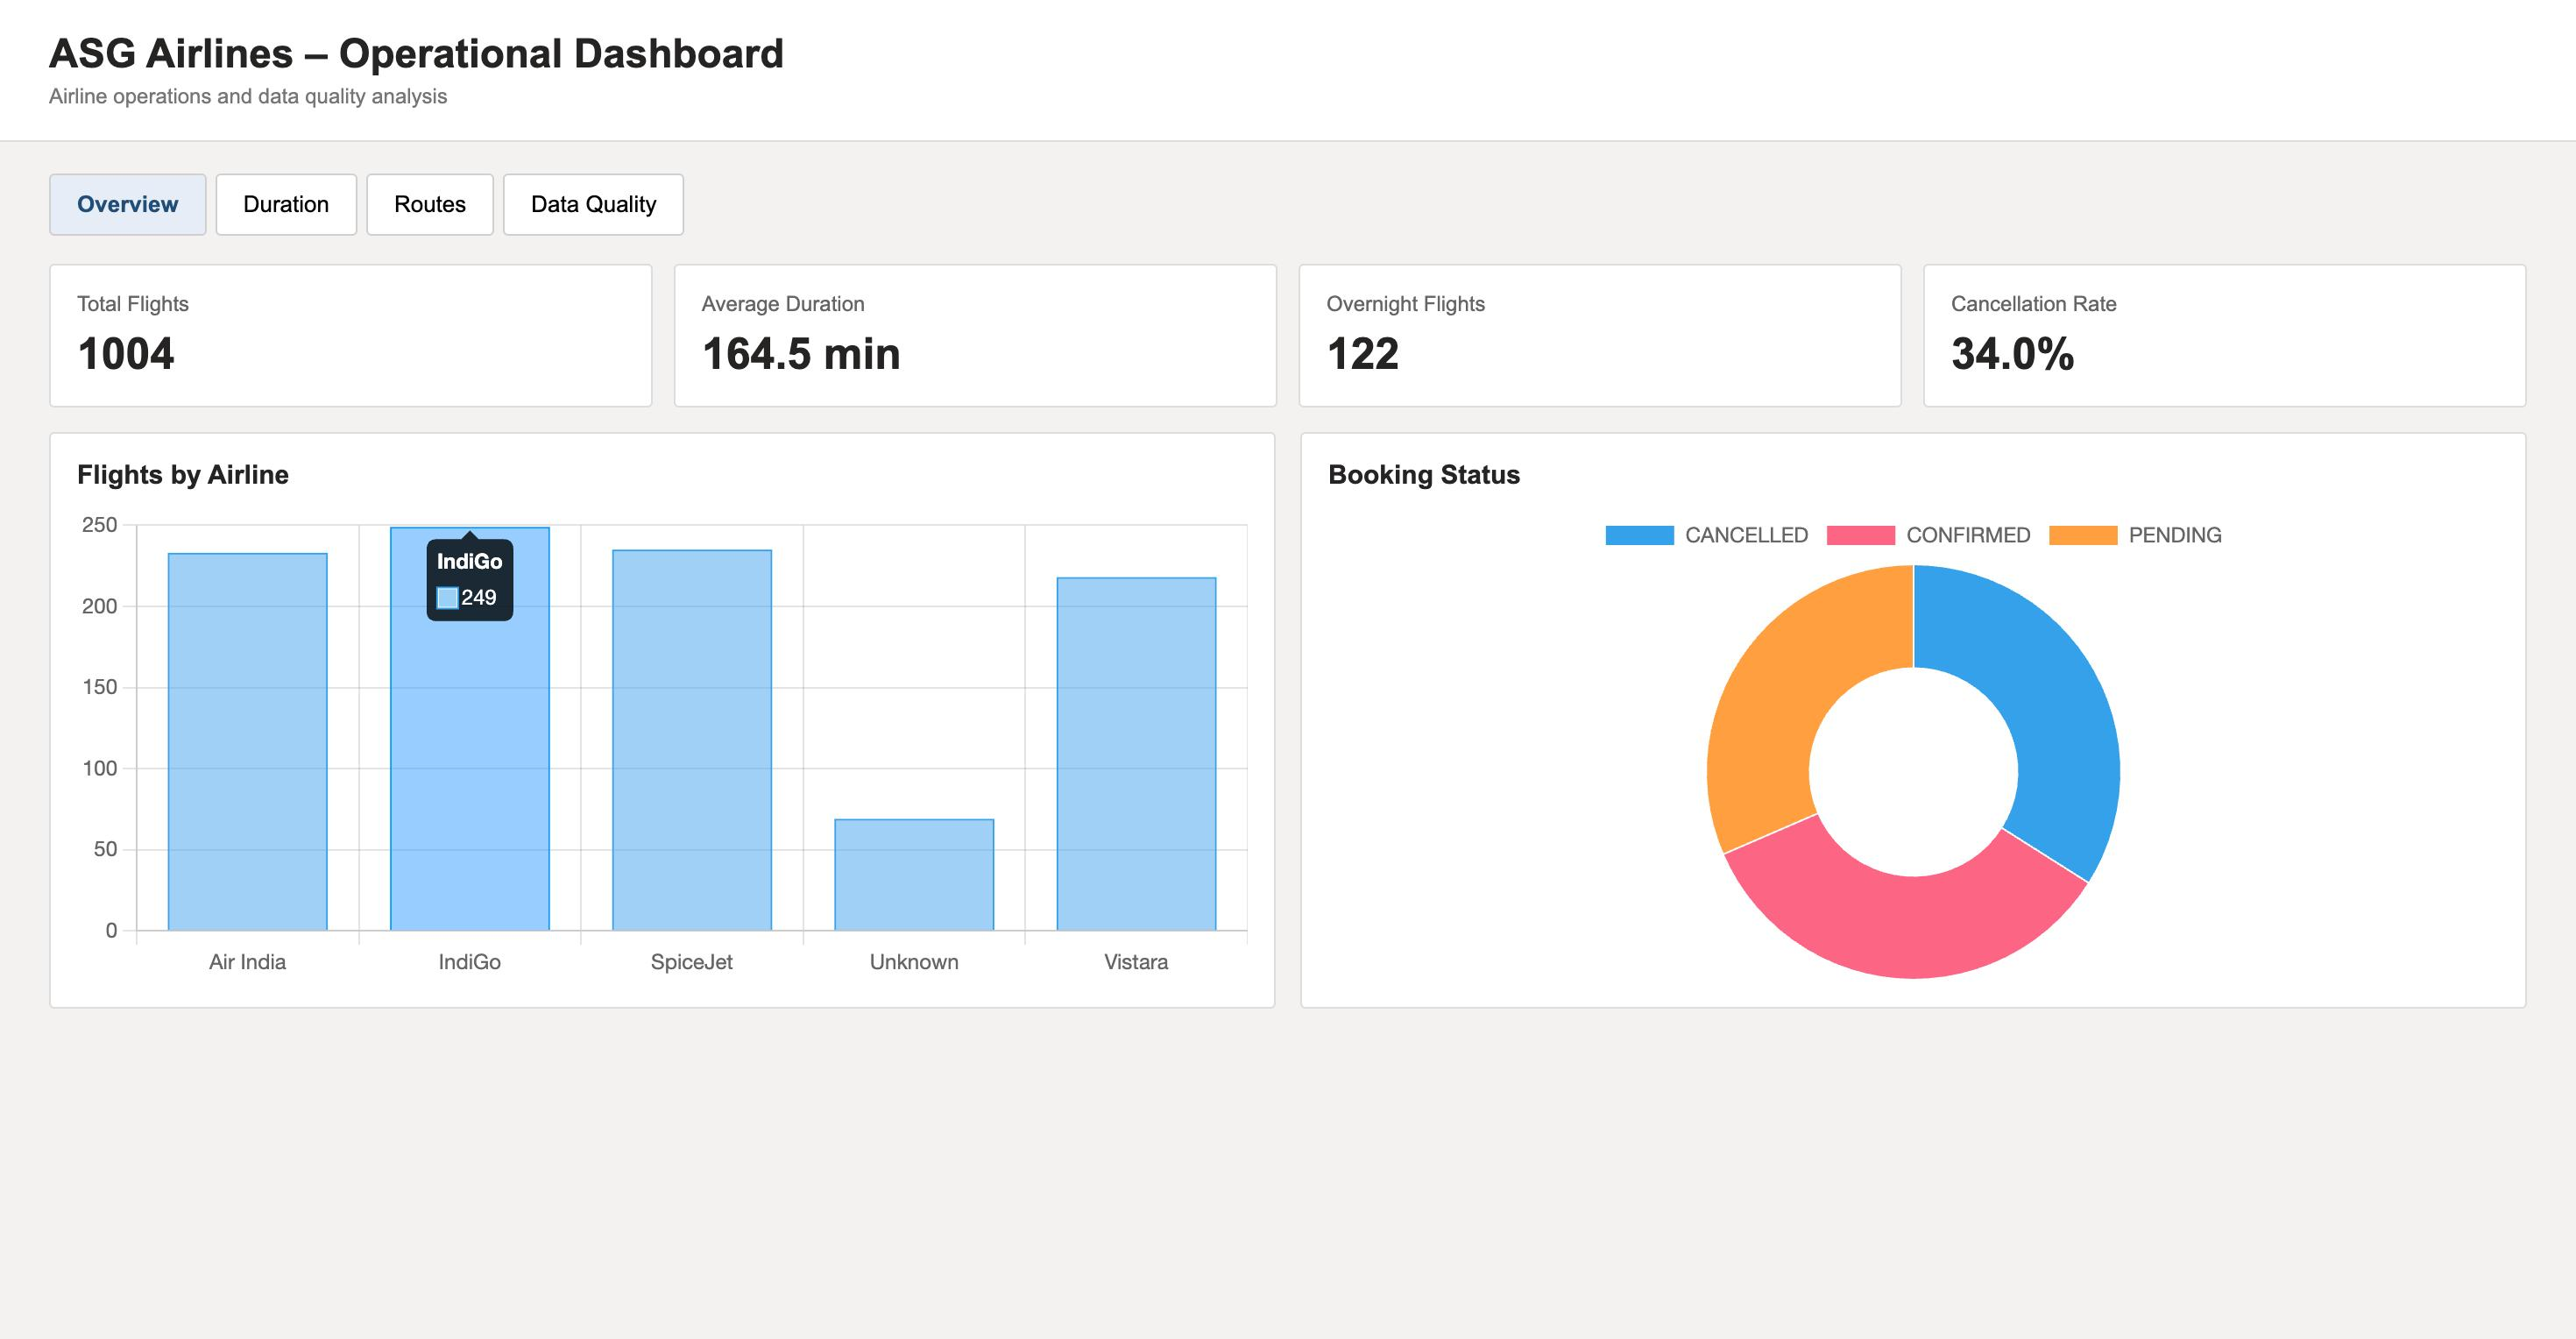

This screenshot's page, from the dashboard's own definition file:
{"tool":"powerbi","page":{"name":"Overview","canvas":[1920,1080],"ordinal":0},"visuals":[{"type":"cardVisual","fields":{"Data":["Count(flights_cleaned.flight_instance_key)"]},"box":[1323.6,262.8,280,280],"z":0},{"type":"cardVisual","fields":{"Data":["Avg(flights_cleaned.duration_minutes)"]},"box":[348.3,262.8,280,280],"z":1},{"type":"cardVisual","fields":{"Data":["CountNonNull(flights_cleaned.flight_instance_key)"]},"box":[820.1,262.8,280,280],"z":2},{"type":"actionButton","box":[0,0,100,40],"z":3},{"type":"clusteredColumnChart","fields":{"Category":["flights_cleaned.airline"],"Y":["CountNonNull(flights_cleaned.flight_instance_key)"]},"box":[1003.8,630.2,848.6,411.7],"z":4},{"type":"clusteredColumnChart","fields":{"Category":["booking_status.status"],"Y":["Sum(booking_status.booking_count)"]},"box":[114,630.2,804.3,411.7],"z":5},{"type":"textbox","box":[1660,130,260,412],"z":6},{"type":"textbox","box":[101.3,129.8,1326.8,164.7],"z":7}]}

Visuals, with their boxes on the page's 1920x1080 design canvas (x1, y1, x2, y2). These are canvas units, not pixel positions in the 2576x1339 screenshot, which may show the page scaled, cropped or inside an application window:
cardVisual - Count(flights_cleaned.flight_instance_key): (x1=1324, y1=263, x2=1604, y2=543)
cardVisual - Avg(flights_cleaned.duration_minutes): (x1=348, y1=263, x2=628, y2=543)
cardVisual - CountNonNull(flights_cleaned.flight_instance_key): (x1=820, y1=263, x2=1100, y2=543)
actionButton: (x1=0, y1=0, x2=100, y2=40)
clusteredColumnChart - flights_cleaned.airline x CountNonNull(flights_cleaned.flight_instance_key): (x1=1004, y1=630, x2=1852, y2=1042)
clusteredColumnChart - booking_status.status x Sum(booking_status.booking_count): (x1=114, y1=630, x2=918, y2=1042)
textbox: (x1=1660, y1=130, x2=1920, y2=542)
textbox: (x1=101, y1=130, x2=1428, y2=294)
